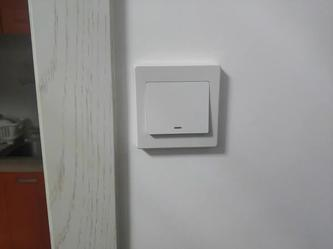switch: (147, 82, 222, 139)
